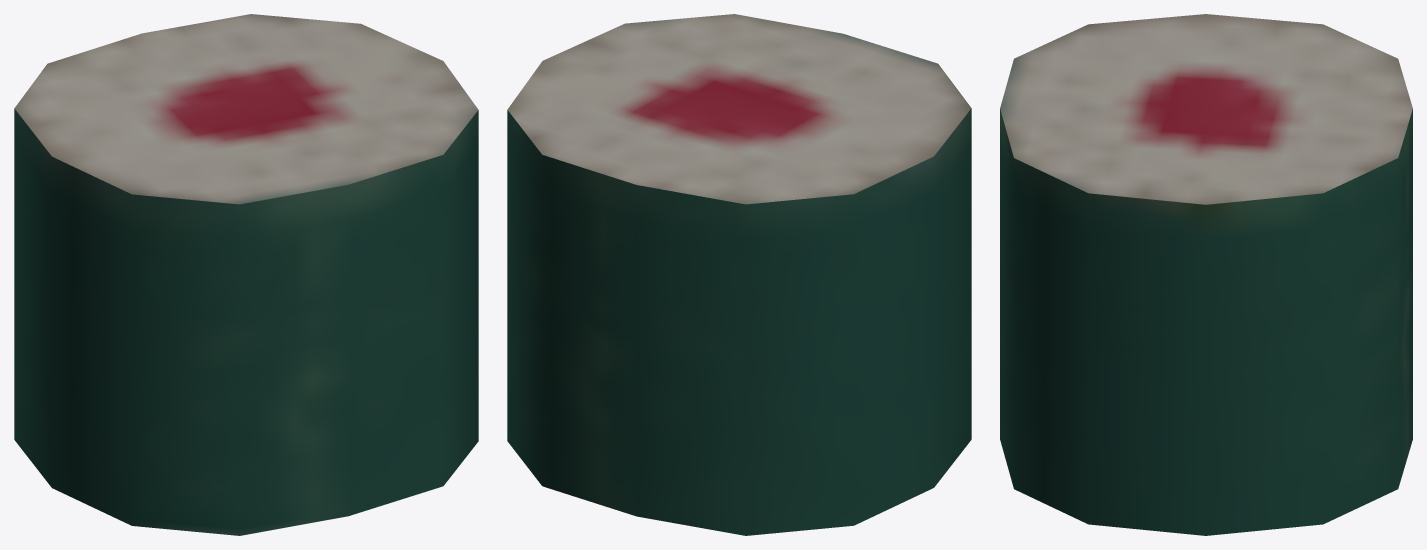
File: SushisRoundMaguro.glb
3 views of the same model, side by side, from view 1: azimuth 30°, elevation 25°; view 2: azimuth 150°, elevation 25°; view 3: azimuth 270°, elevation 25° (orthographic).
Parts seen in each view (by area): view 1: geometry_0; view 2: geometry_0; view 3: geometry_0.
Boxes of the visible parts, x1=… form: geometry_0: x1=14, y1=14, x2=478, y2=535; geometry_0: x1=507, y1=14, x2=971, y2=535; geometry_0: x1=1000, y1=14, x2=1412, y2=535.
Size of the model in its own units: 0.1641 by 0.1328 by 0.15.
1 material, 1 textured.
